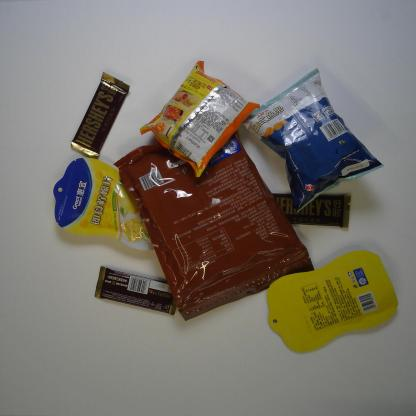Chocolate: (69, 70, 132, 160), (92, 264, 180, 319), (268, 190, 352, 232)
Dried Food: (112, 129, 317, 321)
Dried Fruit: (265, 248, 399, 355), (51, 157, 158, 253)
Instant Noodles: (139, 58, 261, 181)
Puffed Food: (241, 66, 385, 218)
